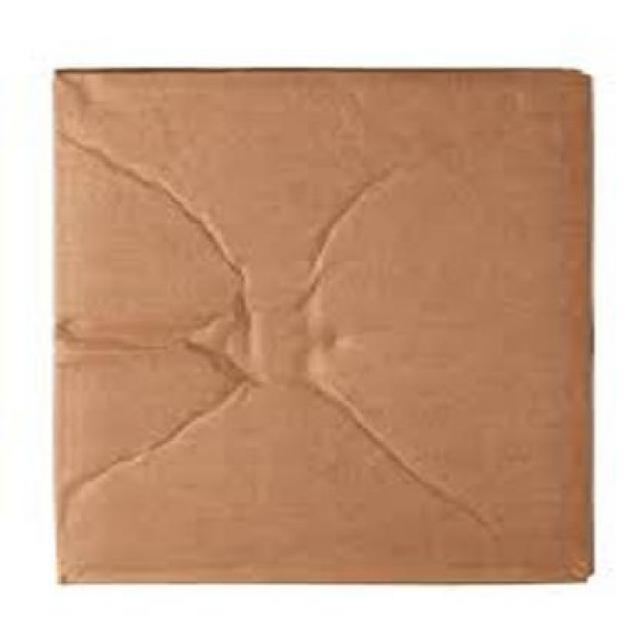normal: (48, 60, 609, 602)
